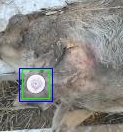text: (22, 69, 49, 98)
